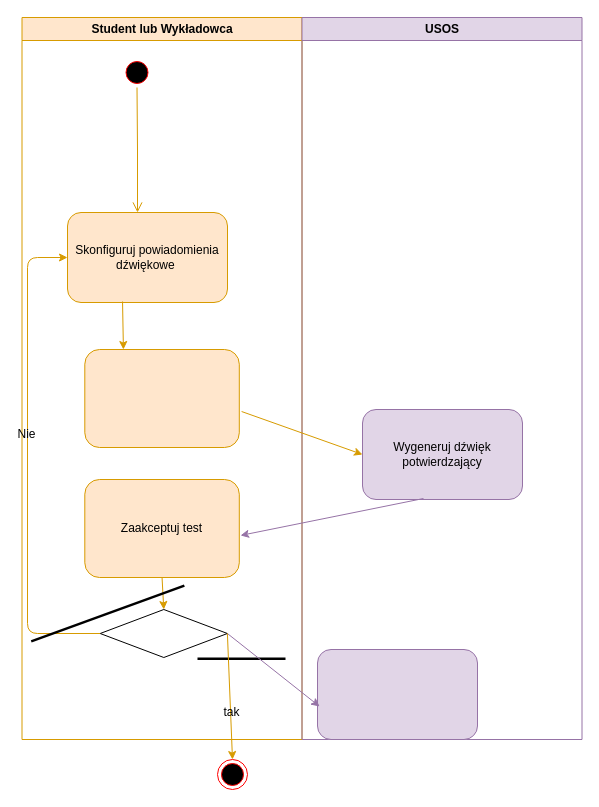
Image size: 599x807. Some labels were removed from this diagram. Each missing label, with the box of its shape:
Czy zaakceptowane?: (99, 608, 227, 658)
Monitoruj plan zajęć: (316, 648, 478, 740)
Przetestuj powiadomienie dźwiękowe: (84, 348, 239, 448)
